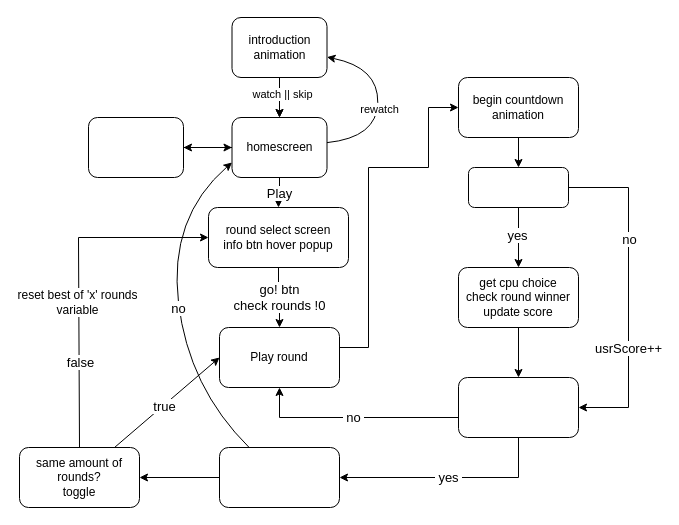
Some shapes in this 679 by 525 pixel diagram are drawn without their labels. The box of each missing label's shape, as (x1, y1, x2, y2) in pixels:
rules & history screen: (88, 116, 184, 178)
score has a winner?: (458, 376, 578, 438)
user as input a choice?: (468, 166, 568, 208)
win-lose screen play again?: (218, 446, 340, 508)
